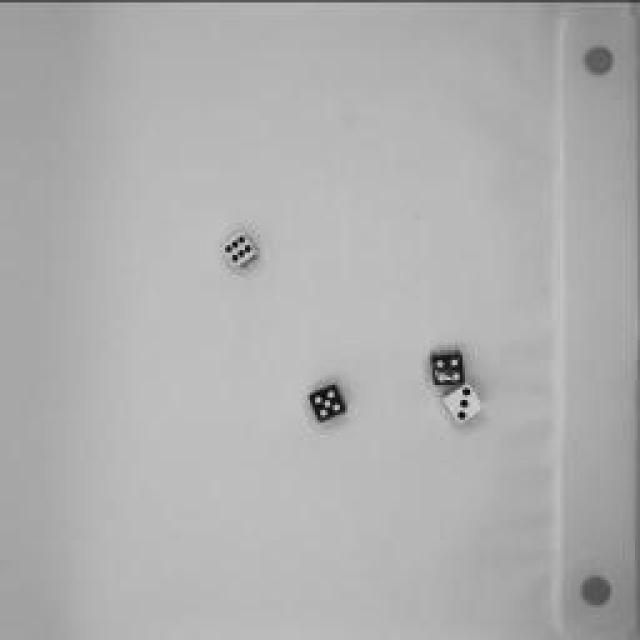dice_3: (440, 379, 490, 429)
dice_4: (428, 342, 468, 388)
dice_5: (302, 378, 352, 428)
dice_6: (216, 228, 264, 272)
